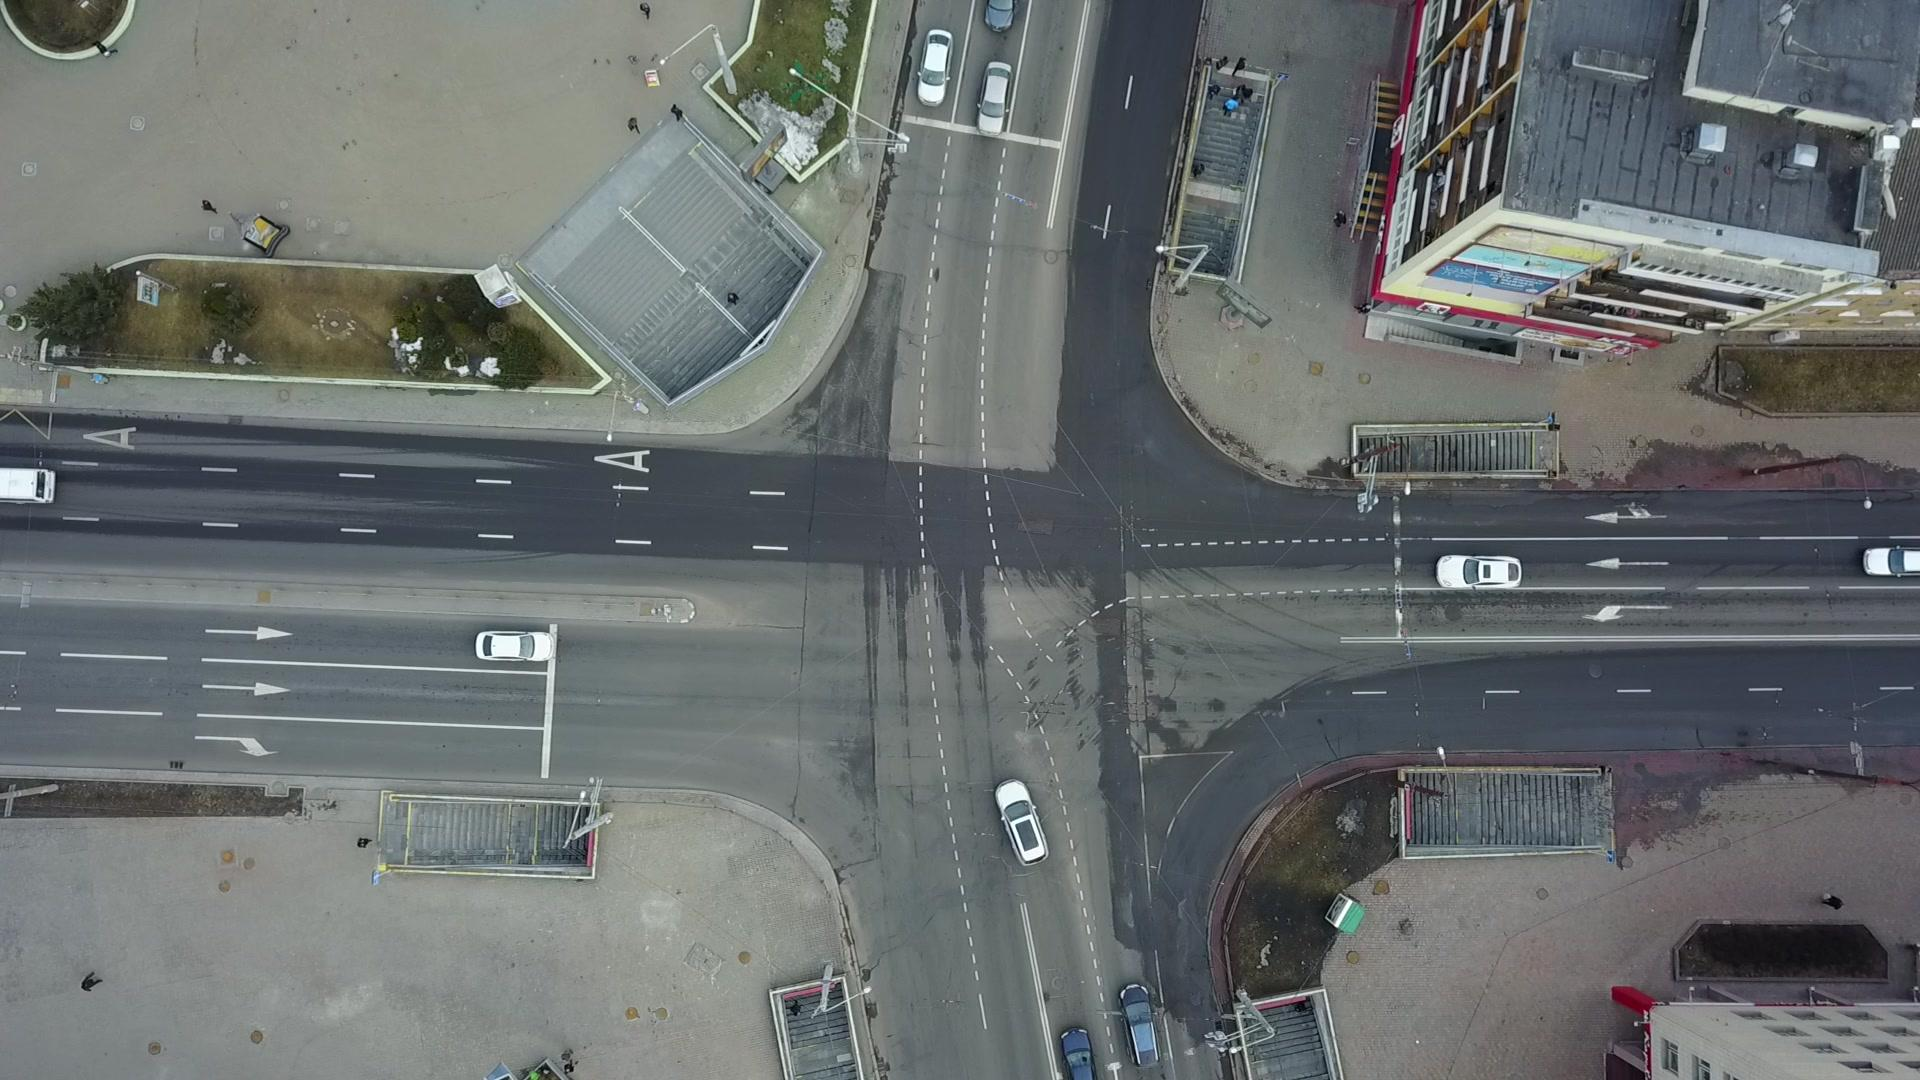car: (993, 777, 1052, 868), (1115, 981, 1164, 1071), (1433, 554, 1523, 592), (916, 26, 955, 109), (975, 59, 1014, 137), (472, 629, 558, 662)
